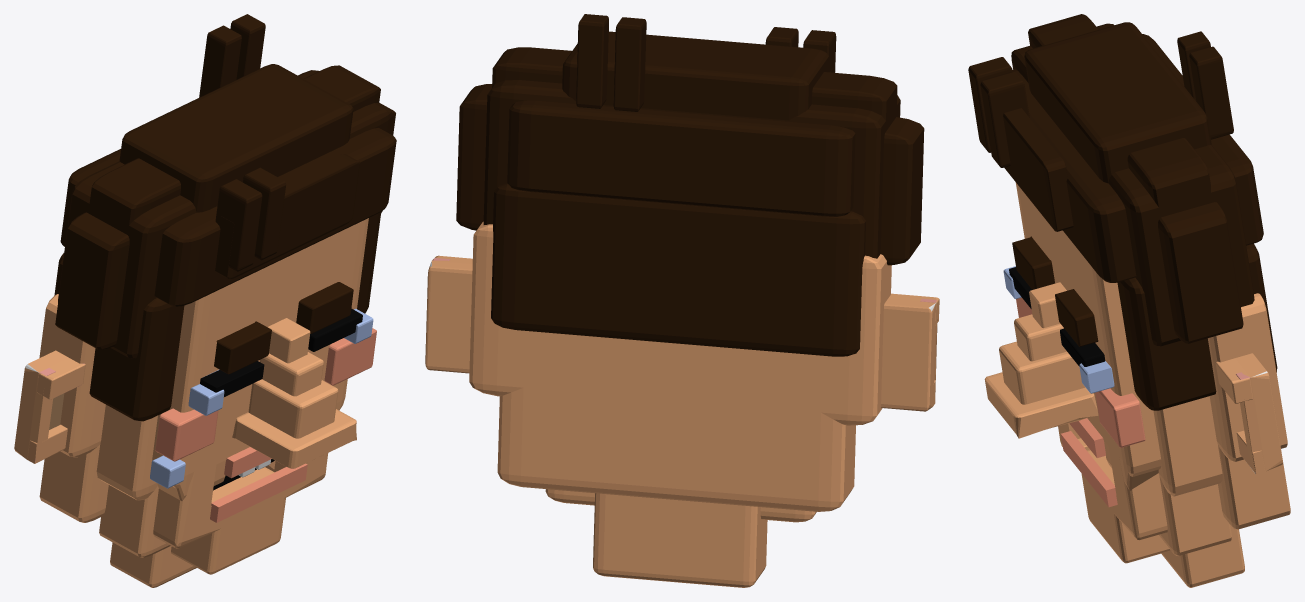
File: head.gltf
3 views of the same model, side by side, from view 1: azimuth 30°, elevation 25°; view 2: azimuth 150°, elevation 25°; view 3: azimuth 270°, elevation 25° (orthographic). The views are drawn at different scales.
Parts seen in each view (by area): view 1: Cube.004; view 2: Cube.004; view 3: Cube.004.
Part boxes in pixels (x1,y1,x2,y2): Cube.004: (14, 14, 396, 587); Cube.004: (425, 14, 939, 587); Cube.004: (968, 14, 1290, 587).
Size of the model in its own units: 1.35 by 1.62 by 0.8754.
